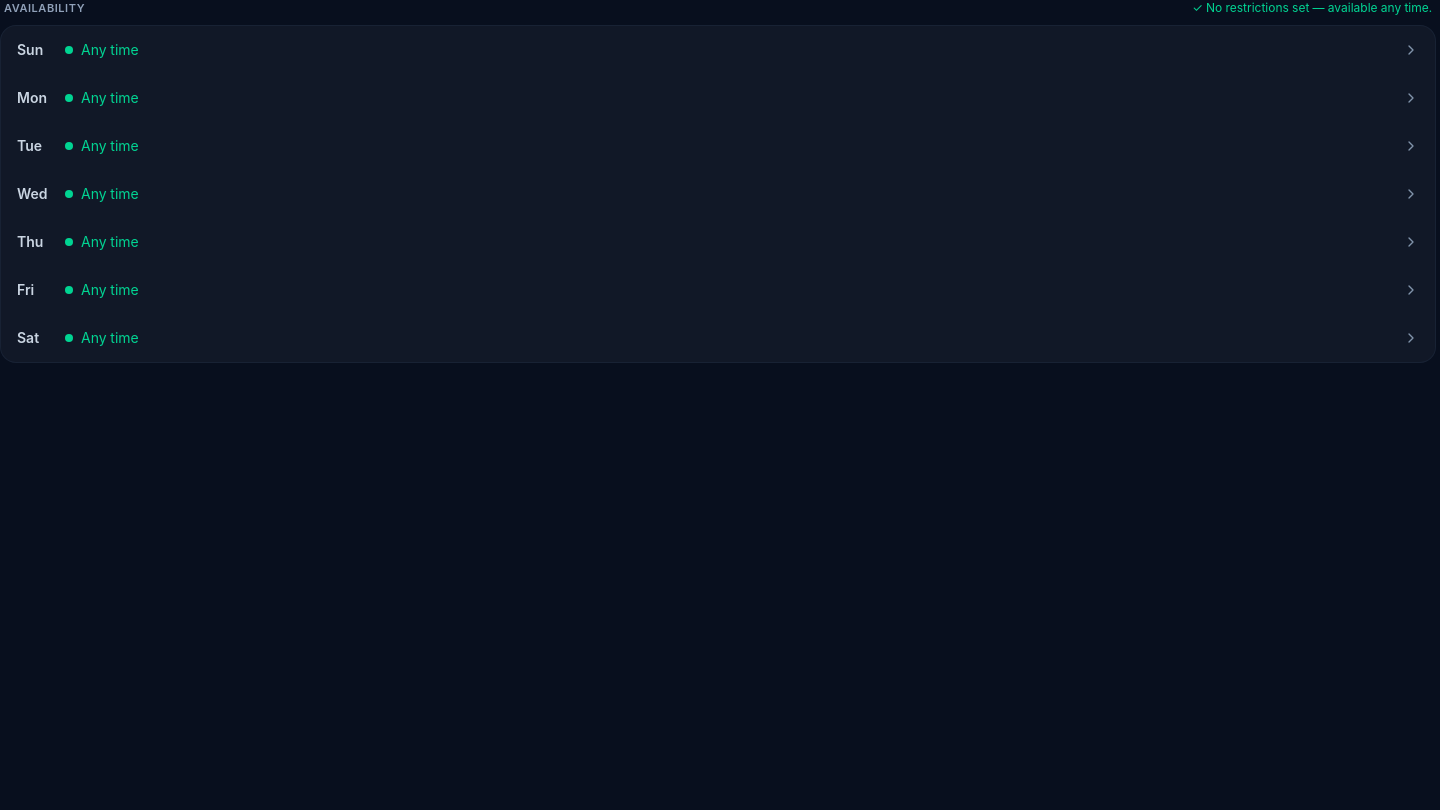
AvailabilitySection › sheet shows correct day name when opened
The width and height of the screenshot is (1440, 810).
Click the button "Wed Any time": click(87, 205) x1=1 y1=170 x2=1435 y2=218
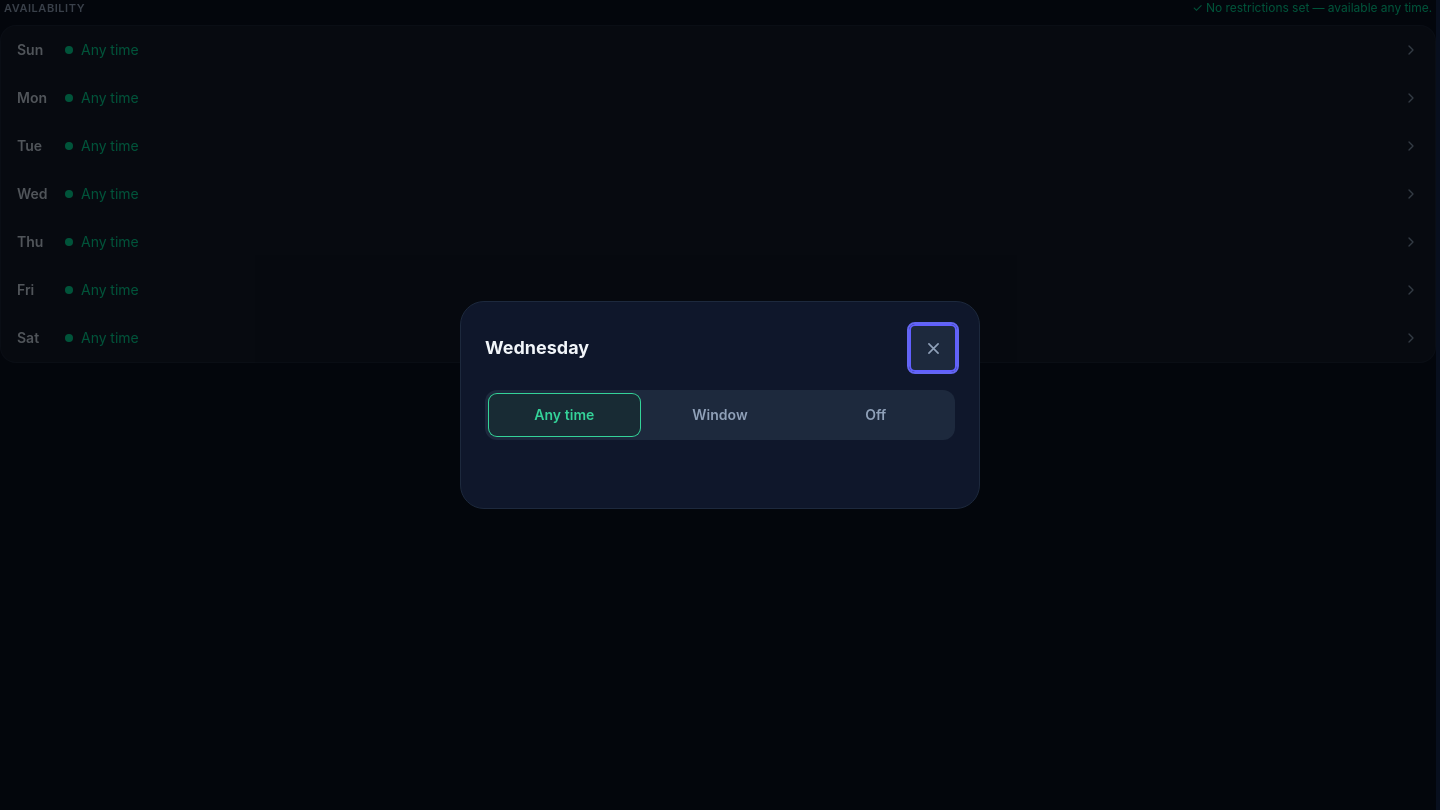
Check: the heading "Wednesday" is shown, box x1=485 y1=334 x2=589 y2=362
